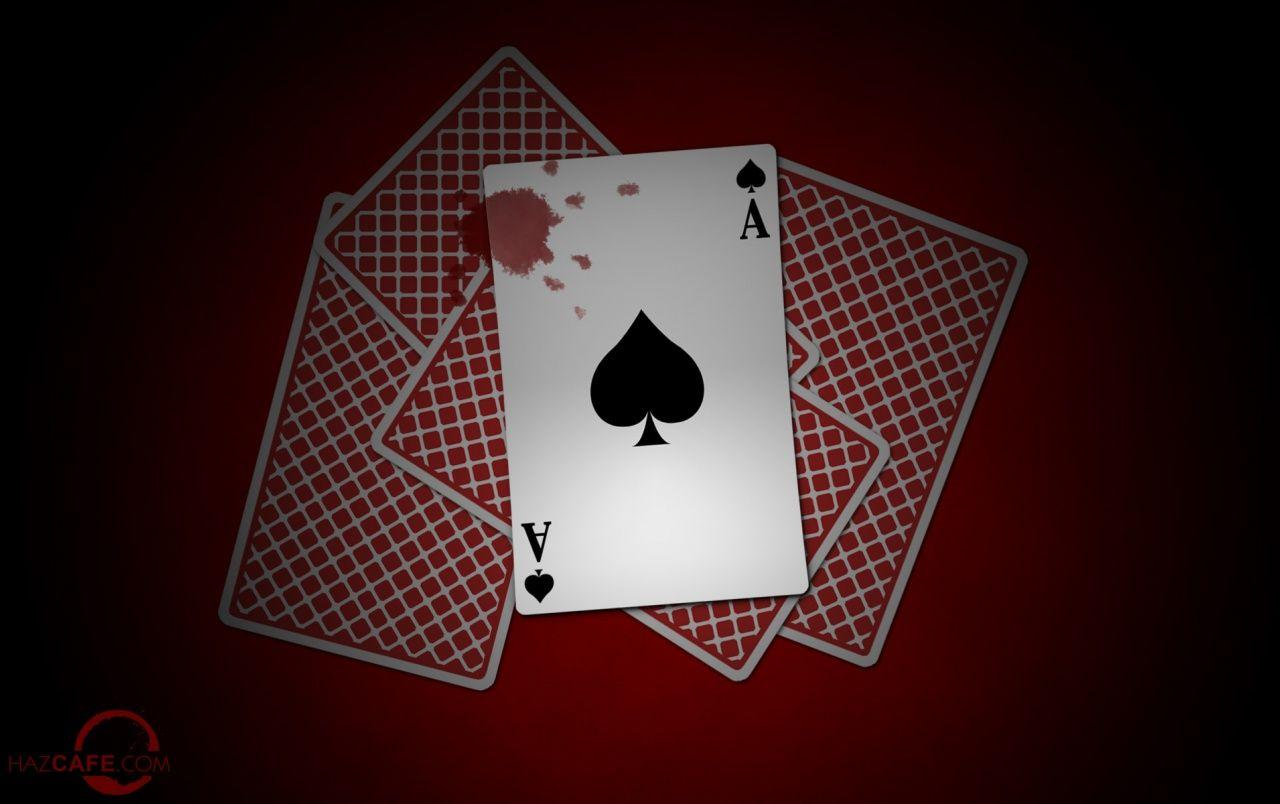ace of spades: (485, 139, 813, 617)
